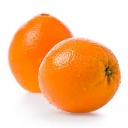orange: (36, 36, 121, 114)
